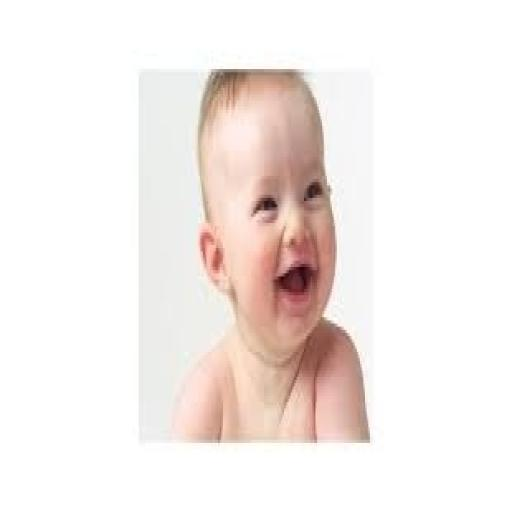laughing: (165, 60, 372, 443)
